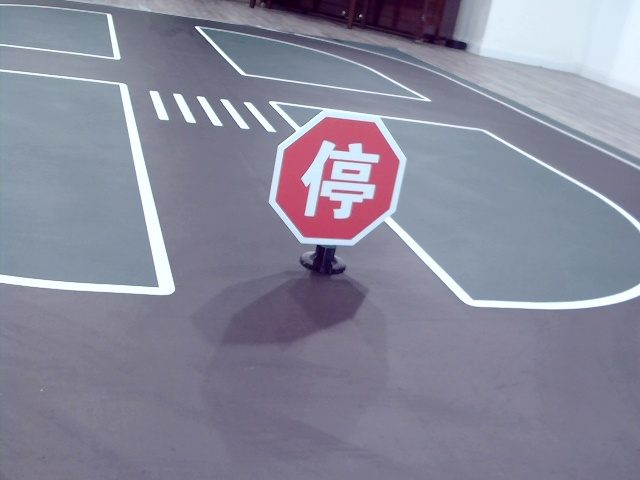stop: (300, 137, 372, 222)
